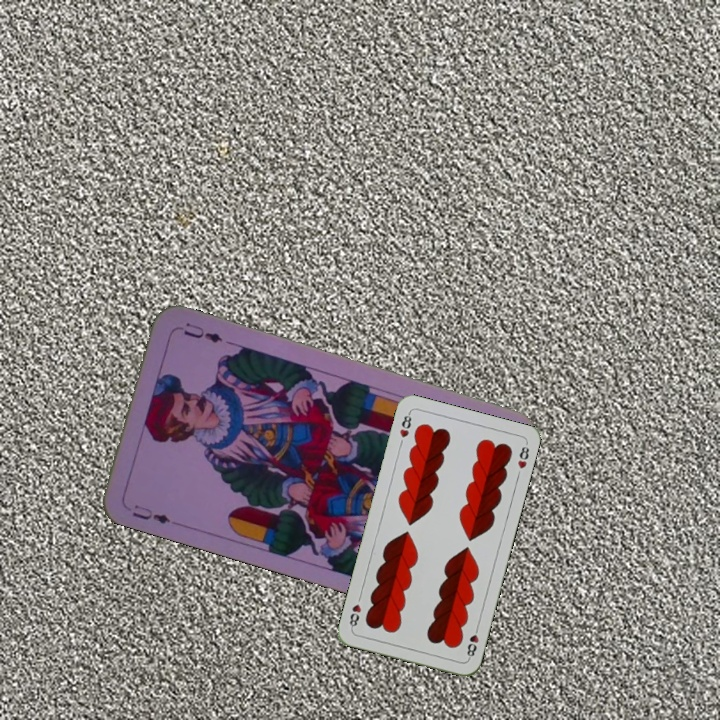EU: (128, 500, 173, 526)
H8: (463, 622, 481, 662), (395, 408, 414, 440)
